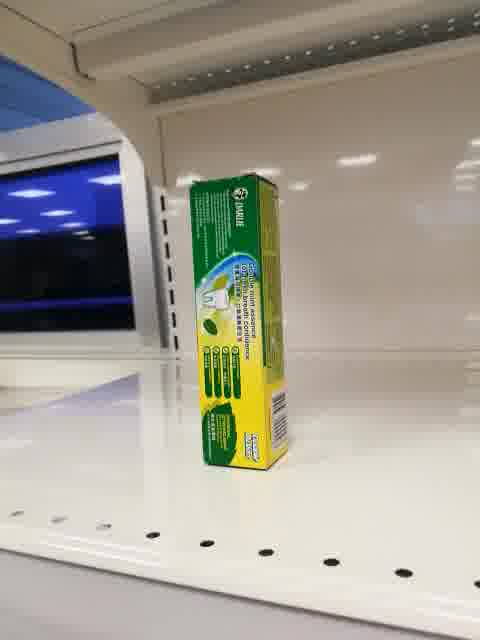toothpaste: (190, 171, 287, 471)
